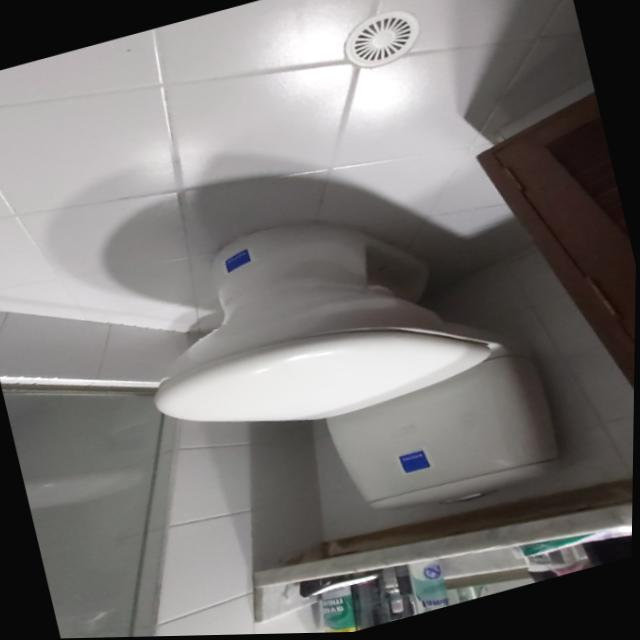toilet: (118, 168, 570, 576)
